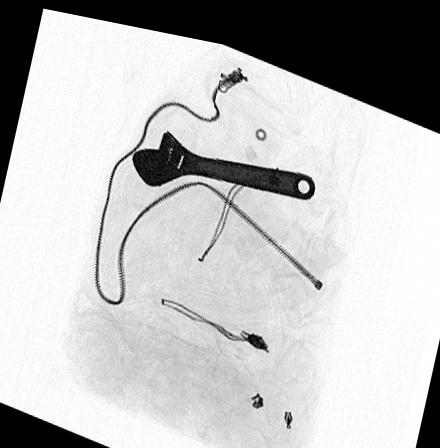Wrench: (129, 121, 315, 188)
